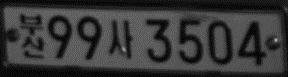0: (207, 19, 233, 65)
3: (144, 17, 172, 63)
4: (237, 20, 266, 65)
5: (178, 18, 204, 64)
9: (76, 15, 102, 60), (47, 14, 72, 59)
부산_V: (19, 13, 46, 59)
사: (108, 19, 134, 59)
